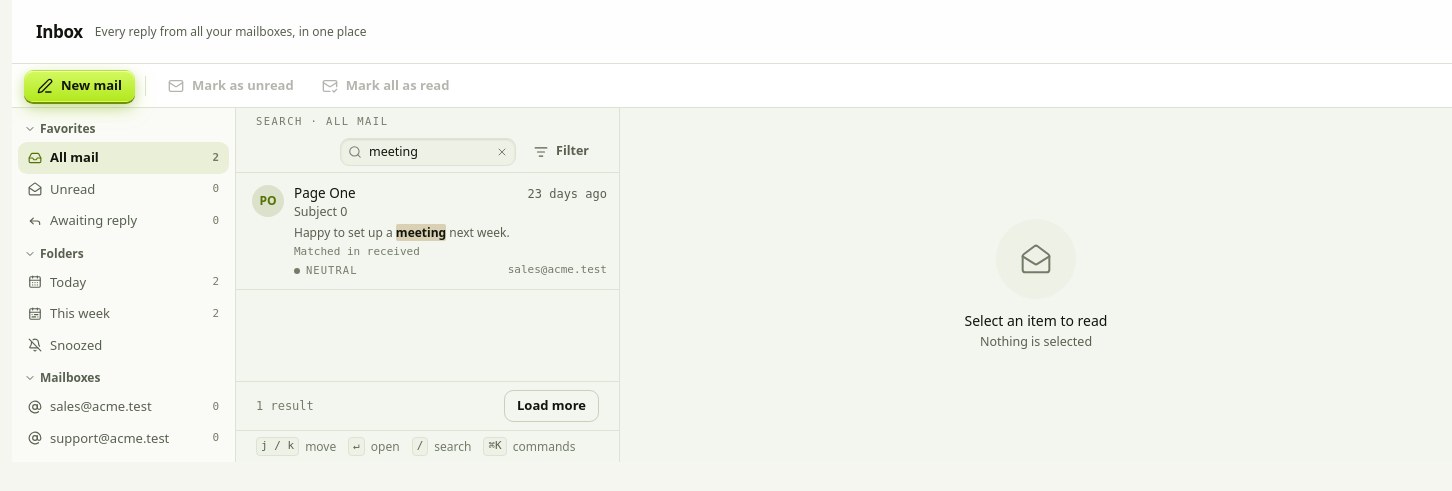
Test: Load more fetches the next page with next_cursor and appends it
Expected: the text "Page One" is shown, 294,184 -> 356,202
Click the button "Load more".
click(552, 406)  # box 504,390 -> 599,422
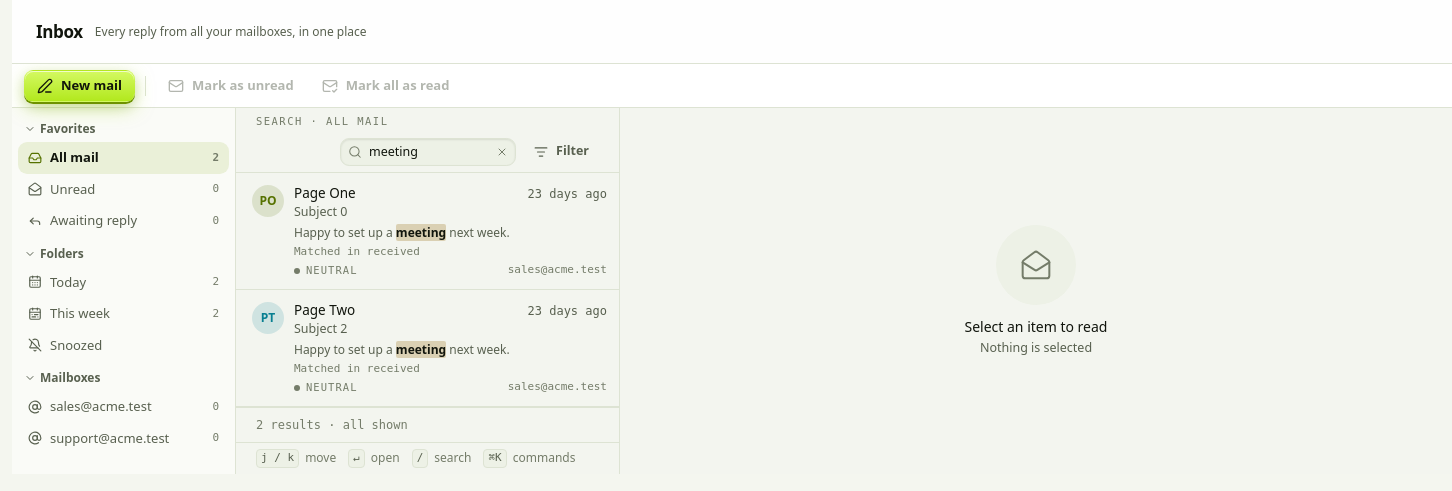
Now the text "Page Two" is shown, box 294,301 -> 355,319
Now the text "2 results · all shown" is shown, box 256,416 -> 408,434
Now the button "Load more" is gone
